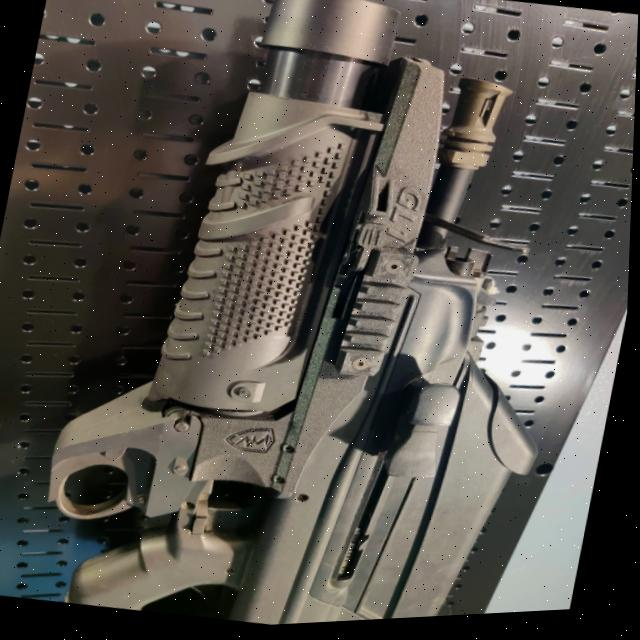firearm: (27, 0, 626, 638)
